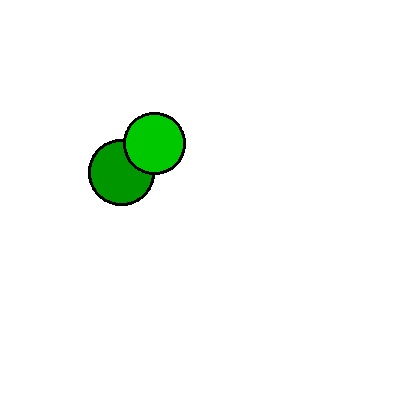circle: (67, 140, 176, 205), (108, 113, 201, 173)
